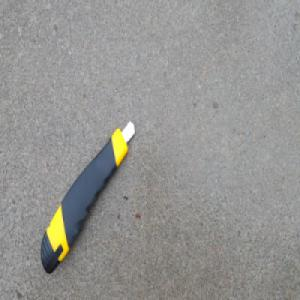Cutter: (39, 119, 136, 275)
